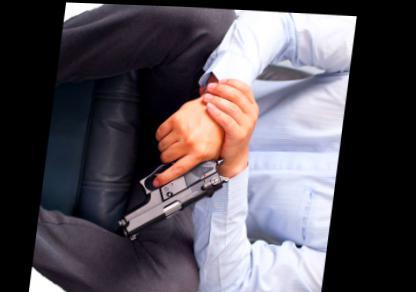pistol: (118, 90, 233, 239)
